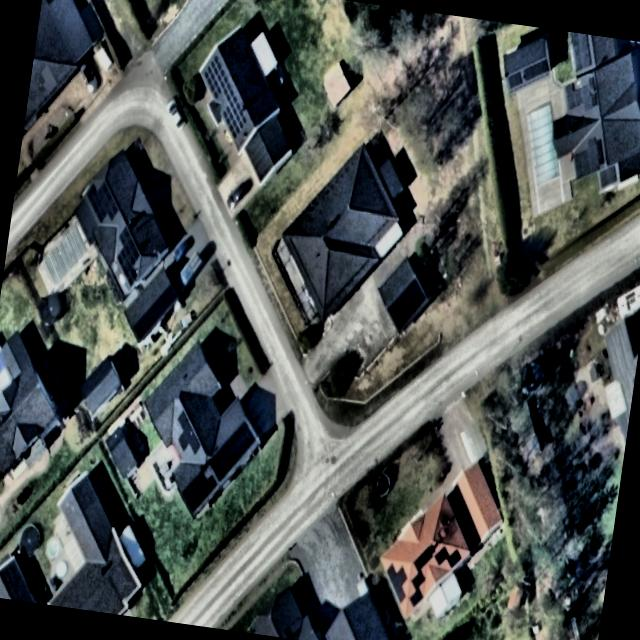roof_pv: (80, 180, 126, 225), (112, 225, 144, 288), (172, 408, 206, 458), (380, 557, 412, 607), (182, 467, 216, 513), (207, 432, 235, 483), (232, 418, 256, 468), (132, 299, 157, 347), (153, 283, 180, 327), (219, 104, 250, 142), (200, 54, 227, 97), (407, 564, 428, 614), (432, 543, 466, 570), (220, 74, 245, 106), (414, 538, 437, 570)
